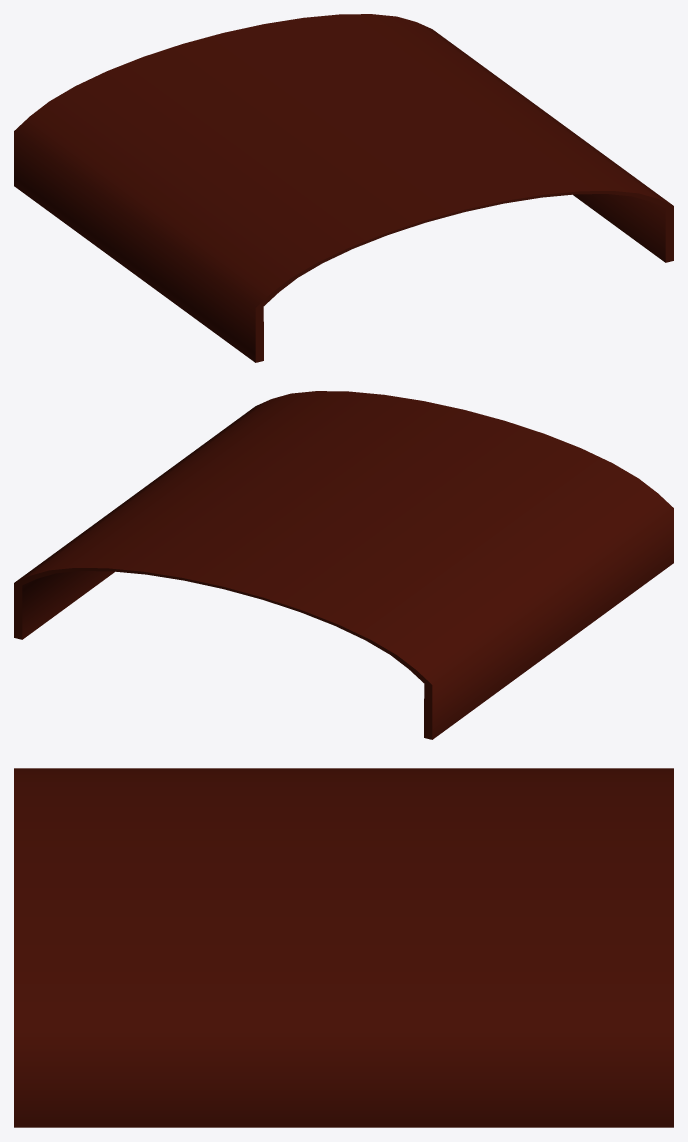
Rendered from Tunnel3.FBX.
The picture shows the model from 3 angles, top to bottom: view 1: azimuth 30°, elevation 25°; view 2: azimuth 150°, elevation 25°; view 3: azimuth 270°, elevation 25°; orthographic projection. The views are drawn at different scales.
Parts seen in each view (by area): view 1: Tunnel3; view 2: Tunnel3; view 3: Tunnel3.
Part boxes in pixels (bbox=[...]): Tunnel3: bbox=[14, 14, 673, 362]; Tunnel3: bbox=[14, 391, 673, 739]; Tunnel3: bbox=[14, 768, 673, 1127].
Size of the model in its own units: 3000 by 3000 by 700.
